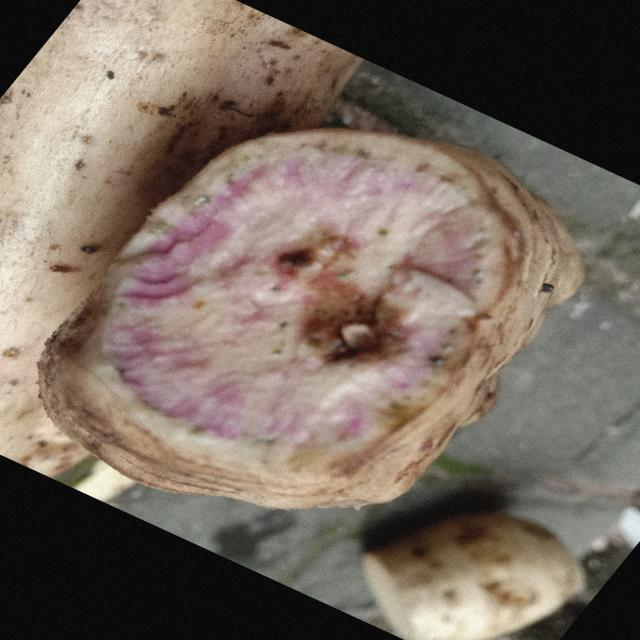Sick Sweet Potato_Tuber Rot: (102, 145, 500, 448)
